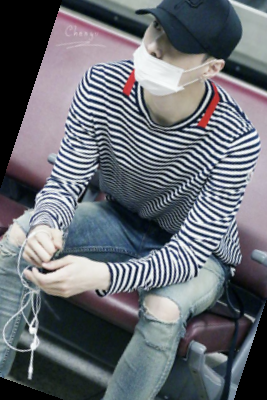mask_weared_incorrect: (132, 4, 254, 106)
